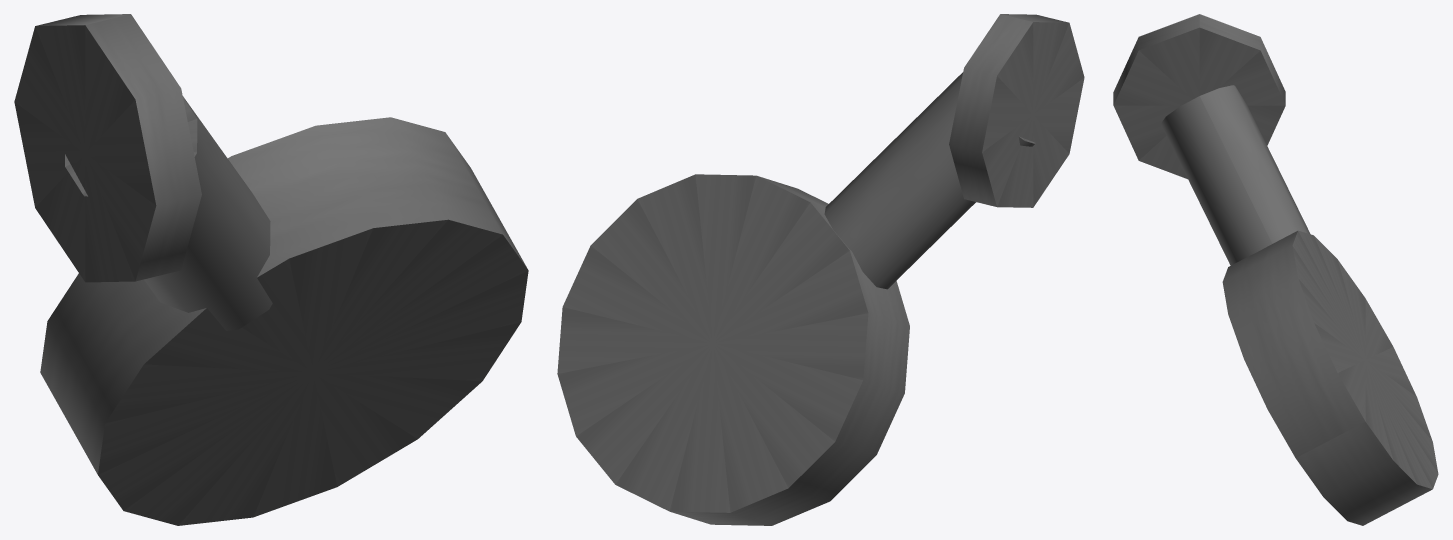
File: mastarmcurve_6x2_c1_west.obj
The picture shows the model from 3 angles, left to right: view 1: azimuth 30°, elevation 25°; view 2: azimuth 150°, elevation 25°; view 3: azimuth 270°, elevation 25°; orthographic projection. The views are drawn at different scales.
Visible parts, largest first — view 1: mastarm_6x2_c1_west; view 2: mastarm_6x2_c1_west; view 3: mastarm_6x2_c1_west.
Part boxes in pixels (x1=…): mastarm_6x2_c1_west: x1=14, y1=14, x2=528, y2=525; mastarm_6x2_c1_west: x1=557, y1=14, x2=1084, y2=525; mastarm_6x2_c1_west: x1=1113, y1=14, x2=1438, y2=525.
Bounding box in the file's own units: 0.8453 × 1.04 × 0.7544.
